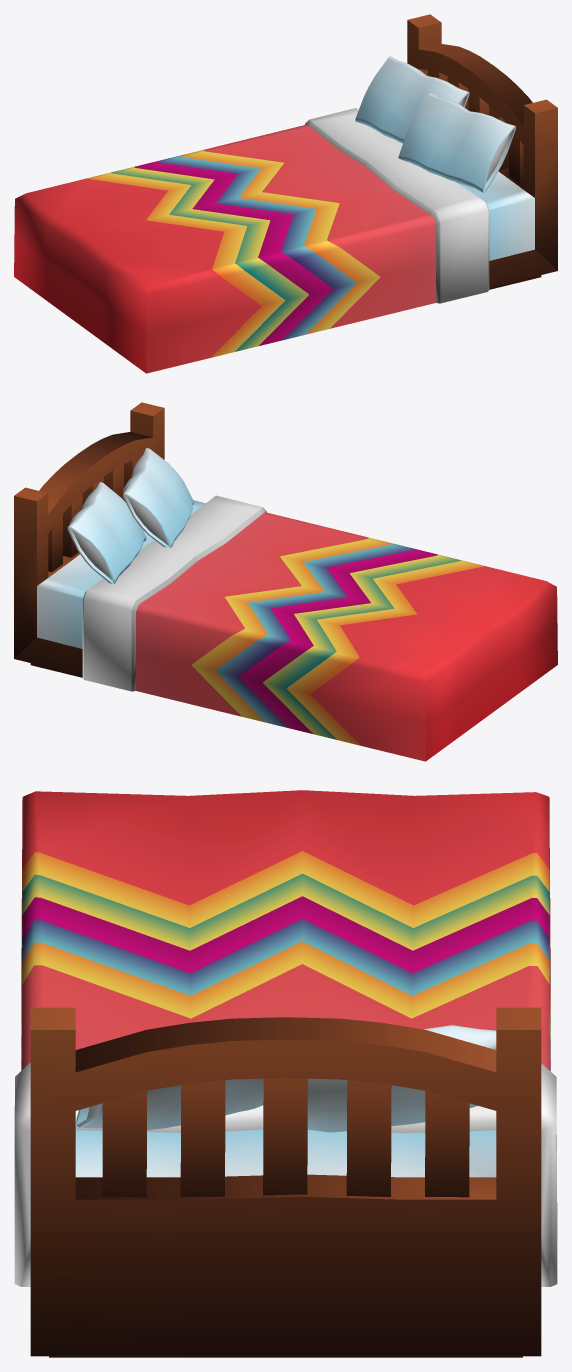
The model's file is Bed.FBX.
3 views of the same model, one above another, from view 1: azimuth 30°, elevation 25°; view 2: azimuth 150°, elevation 25°; view 3: azimuth 270°, elevation 25° (orthographic). The views are drawn at different scales.
Parts seen in each view (by area): view 1: Bed; view 2: Bed; view 3: Bed.
Part boxes in pixels (left/top/right/bottom): Bed: left=14, top=14, right=557, bottom=373; Bed: left=14, top=402, right=557, bottom=761; Bed: left=14, top=790, right=557, bottom=1357.
Bounding box in the file's own units: 86.83 × 34.02 × 49.28.
1 material, 1 textured.
